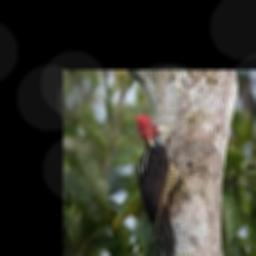Woodpecker: (135, 113, 204, 256)
